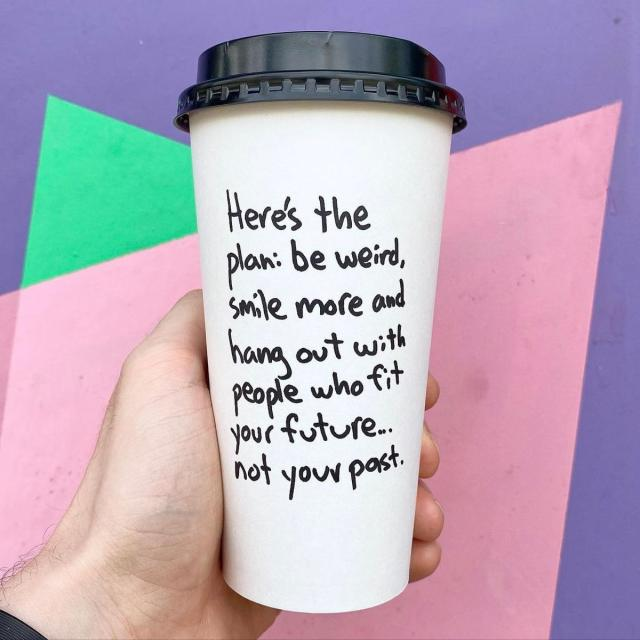paper cup: (175, 31, 469, 614)
